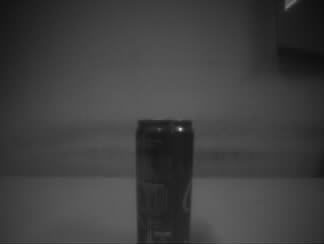Tin can: (135, 119, 195, 244)
